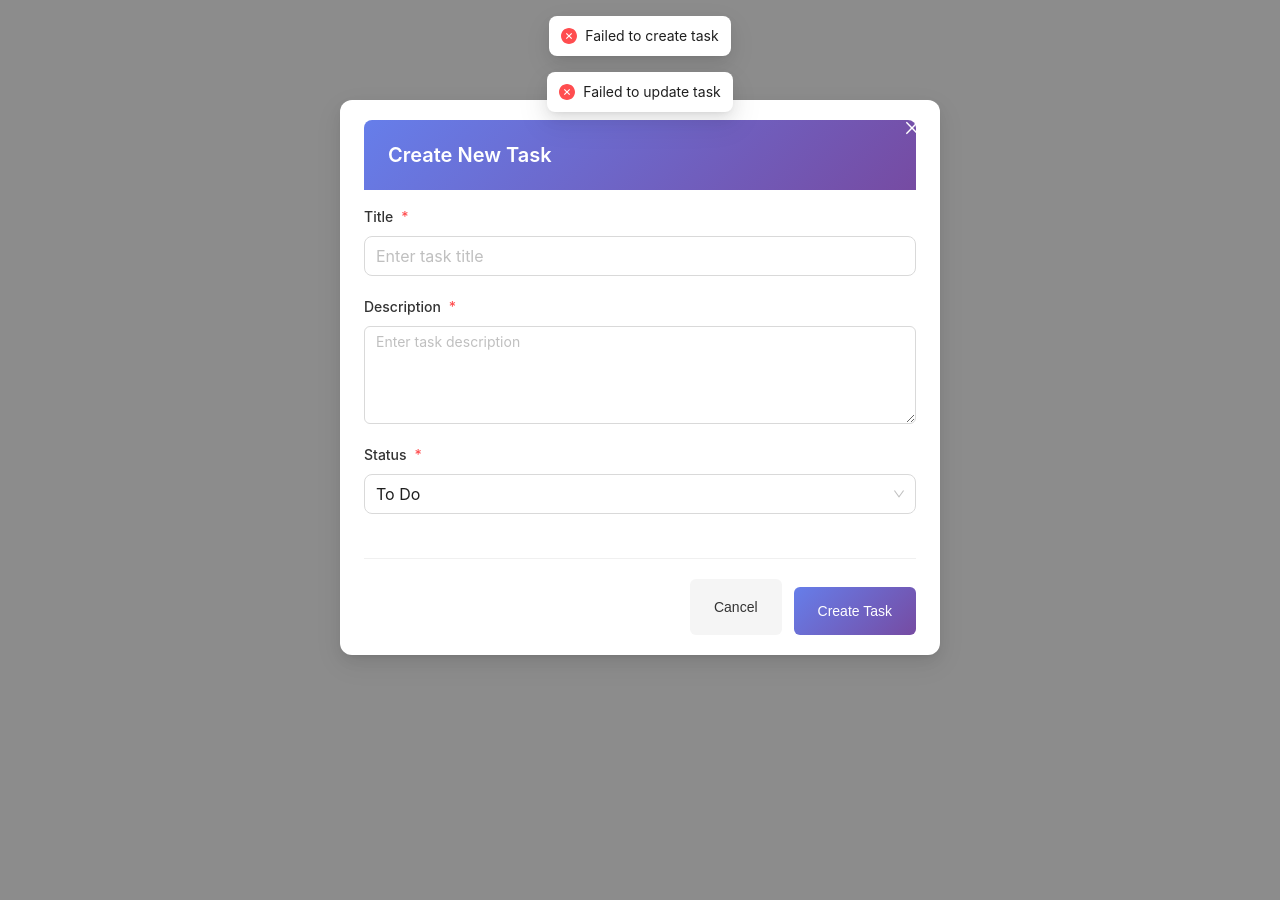
TaskModal › should change status
This screenshot has width=1280, height=900.
Click the dropdown labelled "Status *" at [393, 454], box [364,446,422,463]
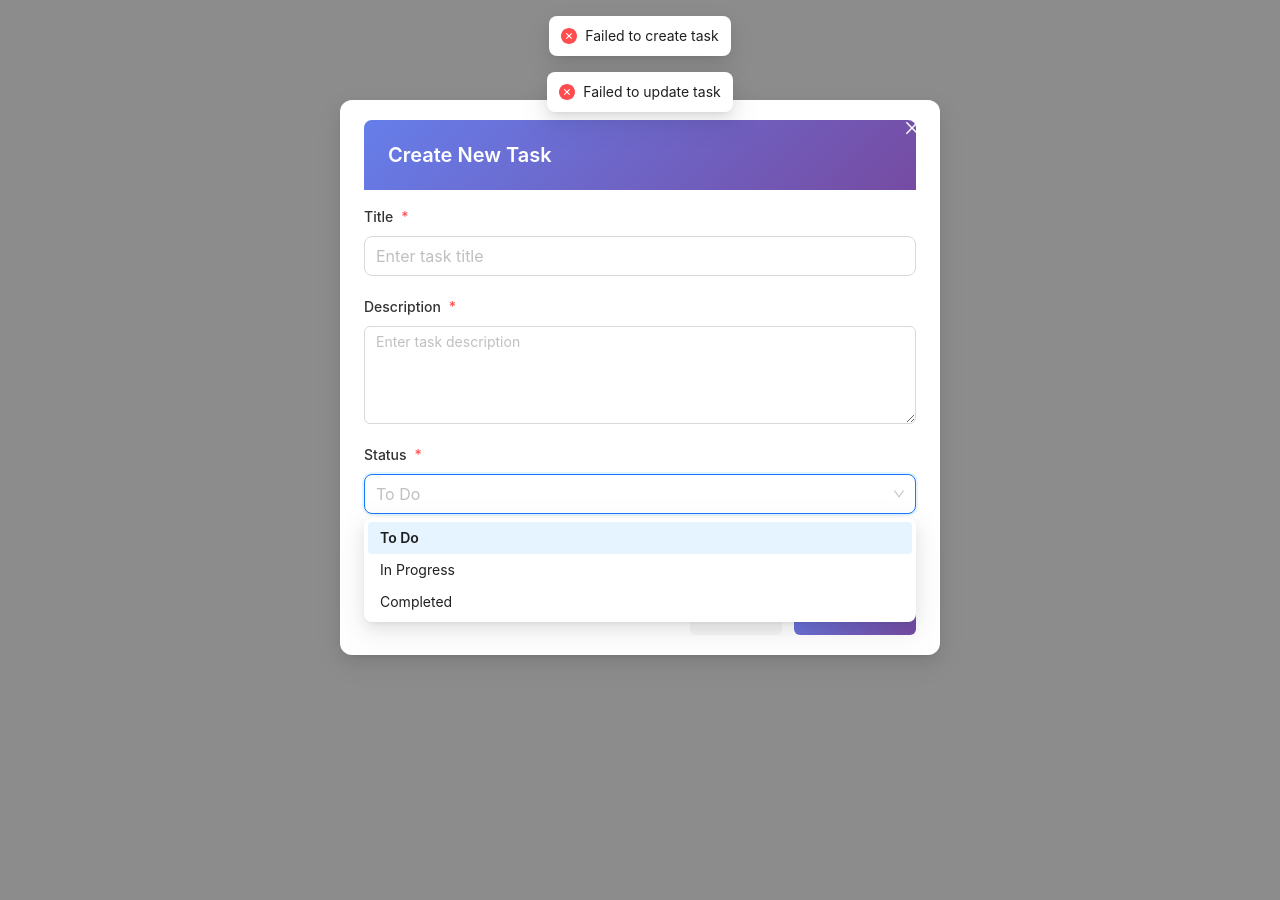
Expected: the text "In Progress" is shown, [380,561,455,578]
